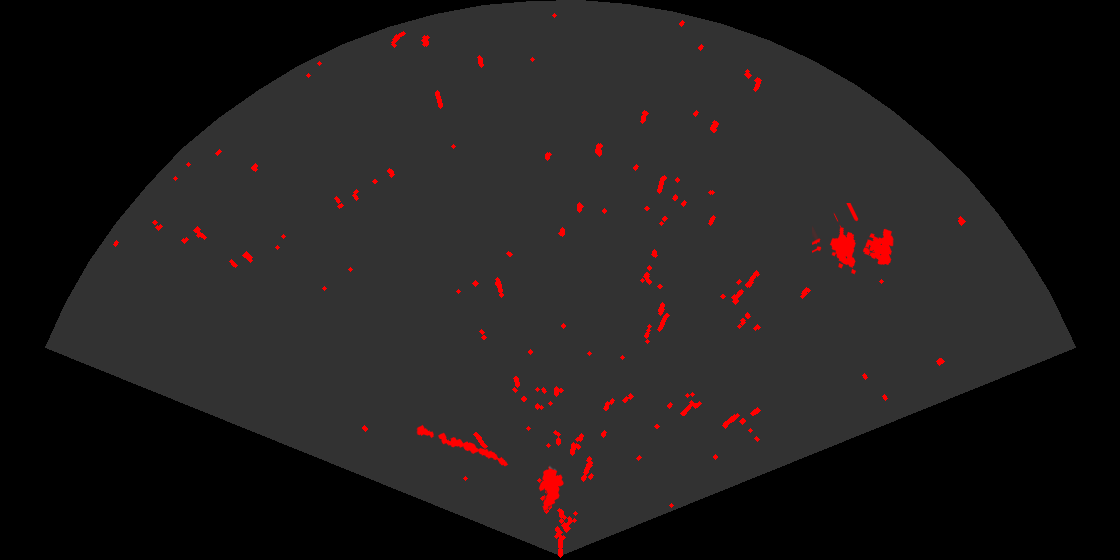AUV: (537, 465, 565, 512)
cage: (812, 203, 895, 276)
chain: (415, 423, 510, 468)
